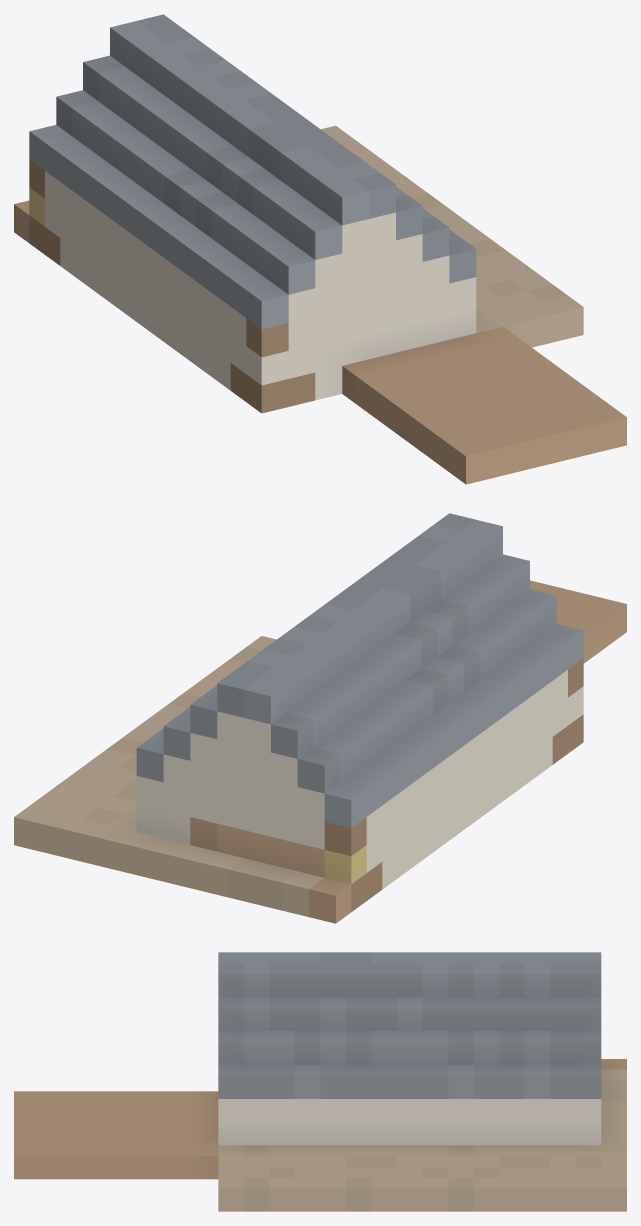
Rendered from oyster_beds.lite.glb.
The picture shows the model from 3 angles, top to bottom: view 1: azimuth 30°, elevation 25°; view 2: azimuth 150°, elevation 25°; view 3: azimuth 270°, elevation 25°; orthographic projection. The views are drawn at different scales.
Visible parts, largest first — view 1: oyster_beds; view 2: oyster_beds; view 3: oyster_beds.
Boxes of the visible parts, x1=… form: oyster_beds: x1=14, y1=14, x2=626, y2=484; oyster_beds: x1=14, y1=513, x2=626, y2=923; oyster_beds: x1=14, y1=952, x2=626, y2=1211.
Size of the model in its own units: 6 by 3.5 by 12.
